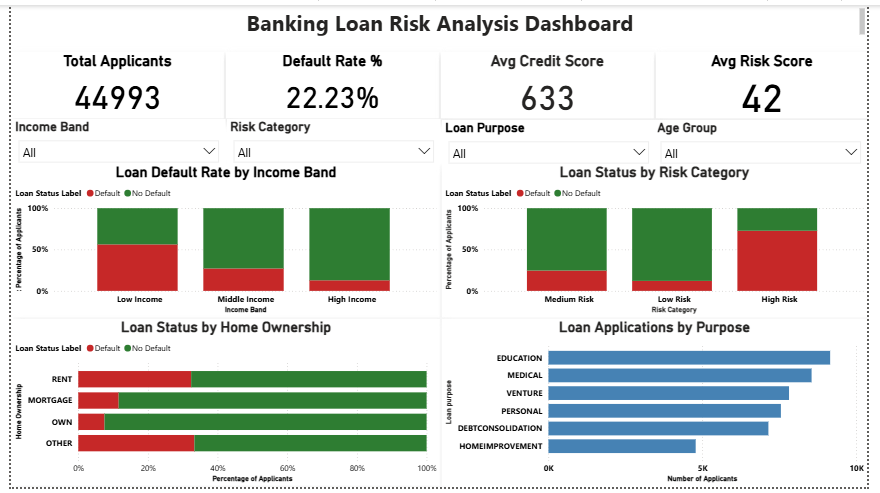

The dashboard page shown, as its layout file describes it:
{"tool":"powerbi","page":{"name":"Executive Risk Overview","canvas":[1280,720],"ordinal":0},"visuals":[{"type":"textbox","box":[10.5,0,1269.7,50.8],"z":0},{"type":"card","title":"Total Applicants","fields":{"Values":["banking_loan_risk_engineered.Total Applicants"]},"box":[0,70.2,318.2,98.6],"z":1000},{"type":"card","title":"Default Rate %","fields":{"Values":["banking_loan_risk_engineered.Default Rate %"]},"box":[321.2,70.2,318.2,98.6],"z":2000},{"type":"card","title":"Avg Credit Score","fields":{"Values":["banking_loan_risk_engineered.Average Credit Score"]},"box":[642.3,70.2,318.2,98.6],"z":3000},{"type":"card","title":"Avg Risk Score","fields":{"Values":["banking_loan_risk_engineered.Average Risk Score"]},"box":[963.3,70.2,316.7,98.6],"z":4000},{"type":"hundredPercentStackedColumnChart","title":"Loan Default Rate by Income Band","fields":{"Category":["banking_loan_risk_engineered.income_band"],"Y":["CountNonNull(banking_loan_risk_engineered.loan_status)"],"Series":["banking_loan_risk_engineered.Loan Status Label"]},"box":[1.5,237.5,639.3,228.5],"z":5000},{"type":"hundredPercentStackedColumnChart","title":"Loan Status by Risk Category","fields":{"Series":["banking_loan_risk_engineered.Loan Status Label"],"Y":["CountNonNull(banking_loan_risk_engineered.loan_status)"],"Category":["banking_loan_risk_engineered.risk_category"]},"box":[643.8,237.5,634.9,228.5],"z":6000},{"type":"hundredPercentStackedBarChart","title":"Loan Status by Home Ownership","fields":{"Category":["banking_loan_risk_engineered.person_home_ownership"],"Y":["CountNonNull(banking_loan_risk_engineered.loan_status)"],"Series":["banking_loan_risk_engineered.Loan Status Label"]},"box":[1.5,469,639.3,249.5],"z":7000},{"type":"clusteredBarChart","title":"Loan Applications by Purpose","fields":{"Category":["banking_loan_risk_engineered.loan_intent"],"Y":["CountNonNull(banking_loan_risk_engineered.loan_intent)"]},"box":[643.8,469,634.9,249.5],"z":8000},{"type":"slicer","title":"Income Band","fields":{"Values":["banking_loan_risk_engineered.income_band"]},"box":[1.5,170.3,319,67.2],"z":9000},{"type":"slicer","title":"Loan Purpose","fields":{"Values":["banking_loan_risk_engineered.loan_intent"]},"box":[643.8,171.8,319,65.7],"z":10000},{"type":"slicer","title":"Age Group","fields":{"Values":["banking_loan_risk_engineered.age_group"]},"box":[960.5,171.8,319,65.7],"z":11000},{"type":"slicer","title":"Risk Category","fields":{"Values":["banking_loan_risk_engineered.risk_category"]},"box":[322.7,170.3,319,67.2],"z":12000}]}

Visuals, with their boxes in screenshot pixels (x1, y1, x2, y2), scaled from the page's 1280x720 canvas onto the 880x493 screenshot:
textbox: region(7, 0, 879, 35)
"Total Applicants" card: region(0, 48, 219, 116)
"Default Rate %" card: region(221, 48, 440, 116)
"Avg Credit Score" card: region(442, 48, 660, 116)
"Avg Risk Score" card: region(662, 48, 879, 116)
"Loan Default Rate by Income Band" hundredPercentStackedColumnChart: region(1, 163, 441, 319)
"Loan Status by Risk Category" hundredPercentStackedColumnChart: region(443, 163, 879, 319)
"Loan Status by Home Ownership" hundredPercentStackedBarChart: region(1, 321, 441, 492)
"Loan Applications by Purpose" clusteredBarChart: region(443, 321, 879, 492)
"Income Band" slicer: region(1, 117, 220, 163)
"Loan Purpose" slicer: region(443, 118, 662, 163)
"Age Group" slicer: region(660, 118, 879, 163)
"Risk Category" slicer: region(222, 117, 441, 163)
